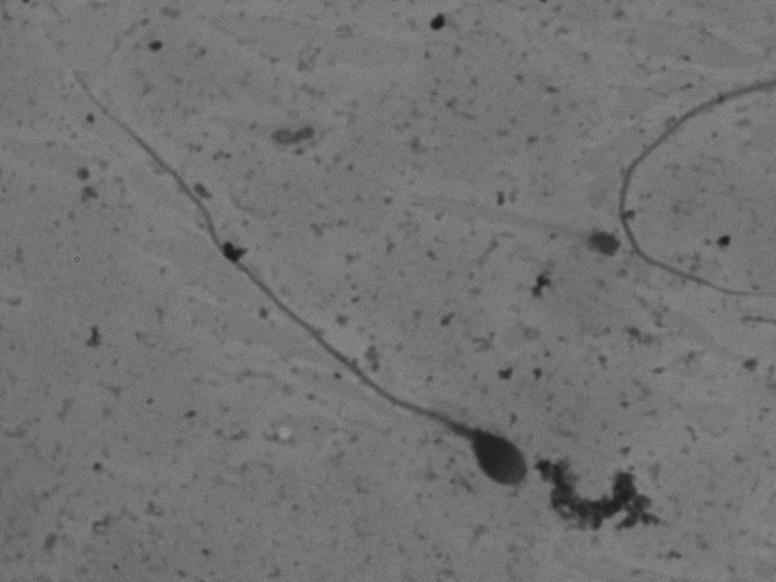Abnormal: (38, 33, 538, 533)
